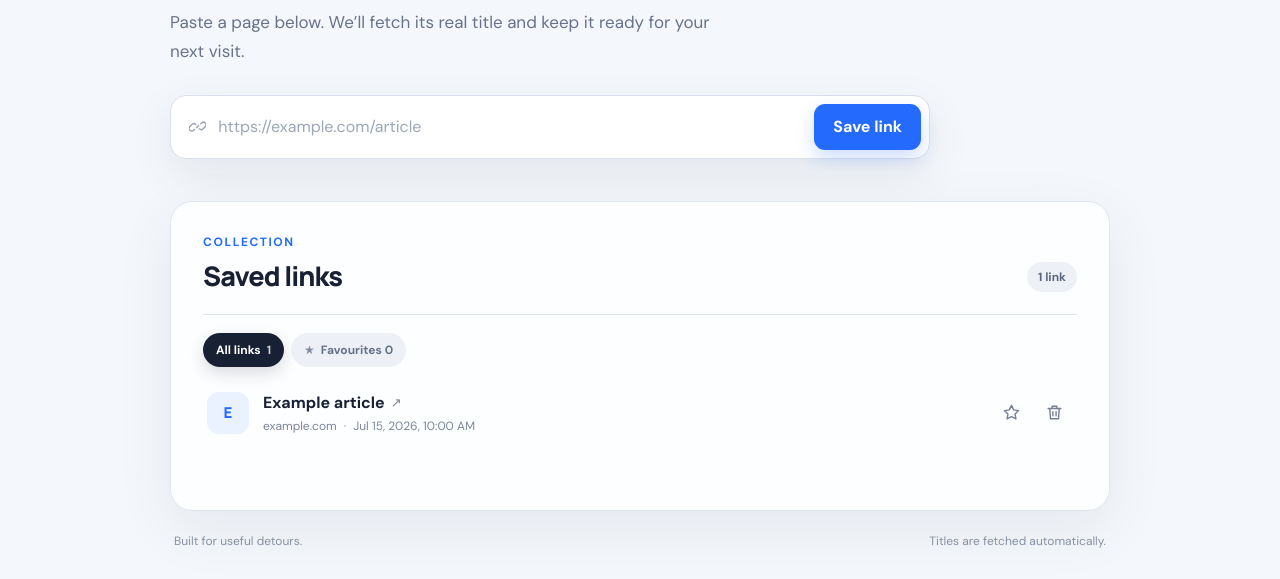
Test case: App core link flow › marks a link as a favourite
(page scrolled)
Expected: the link "Example article ↗" is shown, [263,392,402,413]
Click the button named "Add Example article to favourites" at (1011, 413), box [992,394,1030,432]
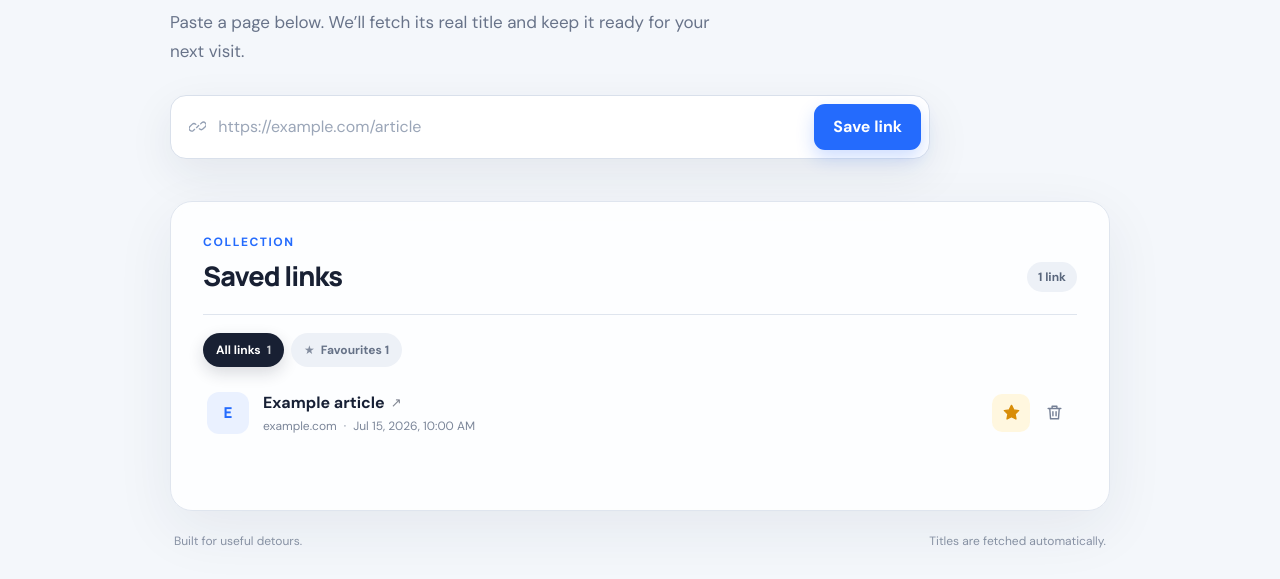
Now the button named "Remove Example article from favourites" is shown, box [992,394,1030,432]
Now the button "★ Favourites 1" is shown, box [291,333,402,367]
